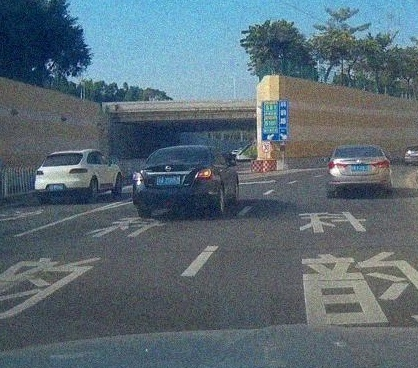L_light: (328, 161, 347, 168), (133, 172, 144, 181), (35, 170, 44, 175)
R_light: (195, 168, 212, 178), (372, 160, 389, 168), (69, 168, 87, 174)
T_light: (175, 148, 186, 151), (354, 147, 364, 150), (60, 153, 68, 156)
day-no: (327, 144, 390, 197), (34, 149, 88, 203)
night-right: (132, 145, 213, 218)
